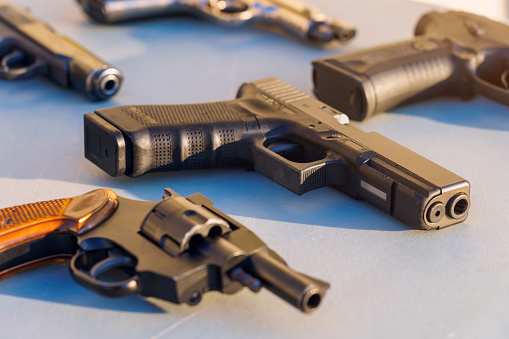gun: (81, 73, 472, 233), (0, 184, 333, 316), (308, 6, 509, 125), (74, 0, 359, 50), (0, 0, 126, 104)
